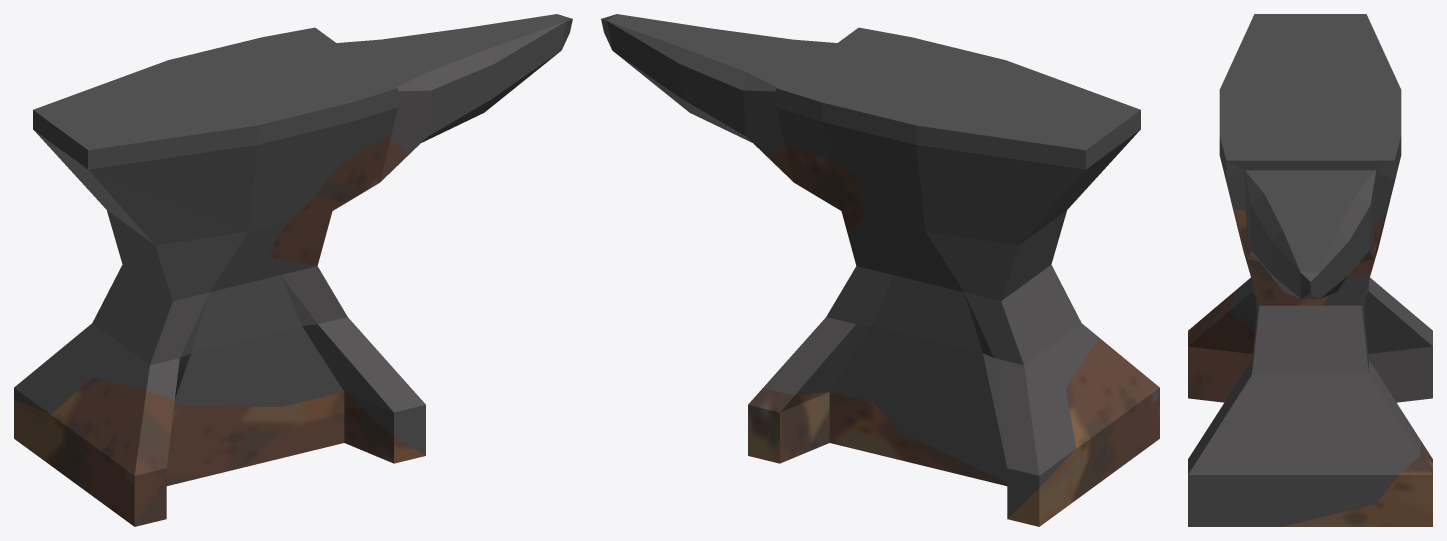
Rendered from SM_Prop_Anvil_01.glb.
3 renders of one model, left to right at view 1: azimuth 30°, elevation 25°; view 2: azimuth 150°, elevation 25°; view 3: azimuth 270°, elevation 25°, orthographic.
Visible parts, largest first — view 1: SM_Prop_Anvil_01; view 2: SM_Prop_Anvil_01; view 3: SM_Prop_Anvil_01.
Boxes of the visible parts, x1,y1,x2,y2 form: SM_Prop_Anvil_01: [14, 14, 572, 526]; SM_Prop_Anvil_01: [601, 14, 1159, 526]; SM_Prop_Anvil_01: [1188, 14, 1432, 526].
Bounding box in the file's own units: 0.7932 × 0.5268 × 0.3234.
Materials: 1 (1 with a texture image).
